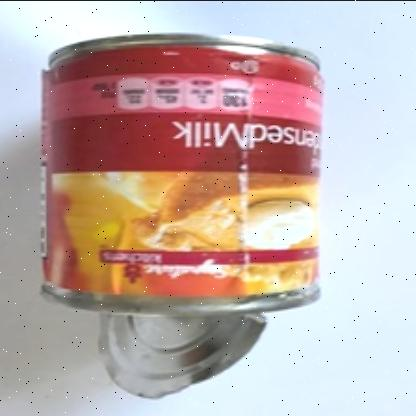Can: (36, 34, 322, 316), (98, 312, 264, 396)
